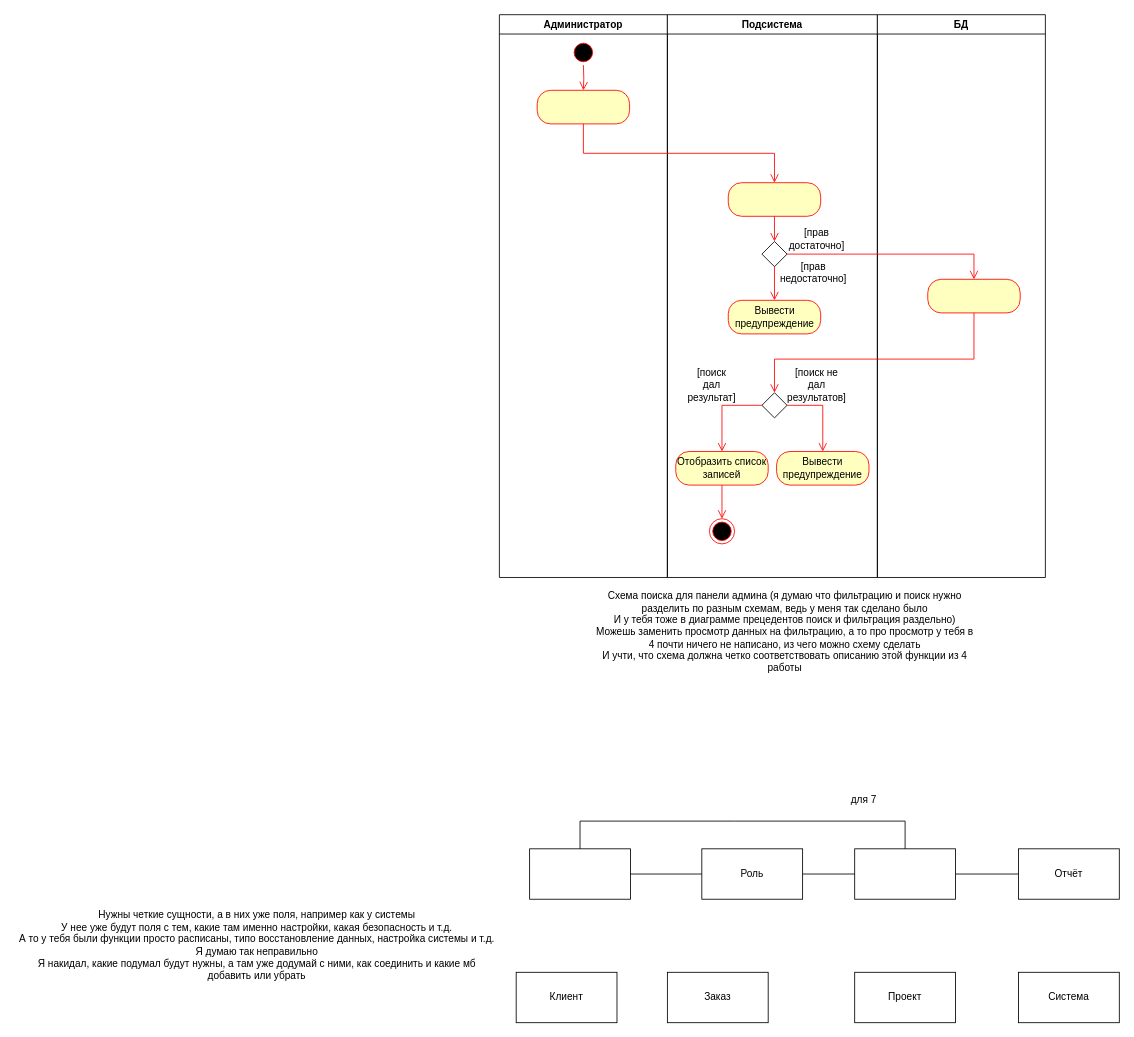
The diagram is 1134 pixels wide and 1037 high, and some of its shapes have lost their labels. Here are the shapes that lost their labels. From the top down, the centre of each, then its label:
At (583,106): "Задание критериев поиска".
At (774,199): "Проверка прав доступа".
At (973,295): "Получить данные из БД".
At (579,873): "Сессия".
At (905,873): "Пользователь".
